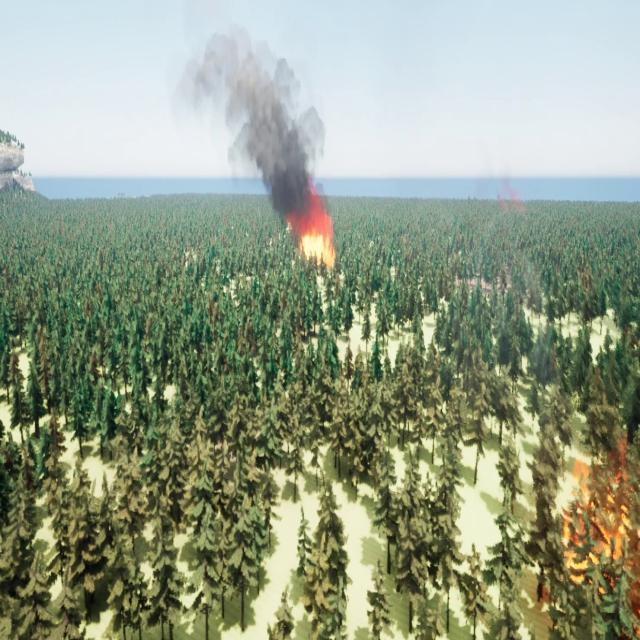fire: (561, 446, 639, 590), (302, 230, 336, 270)
smoke: (172, 26, 330, 233), (496, 176, 526, 214)
